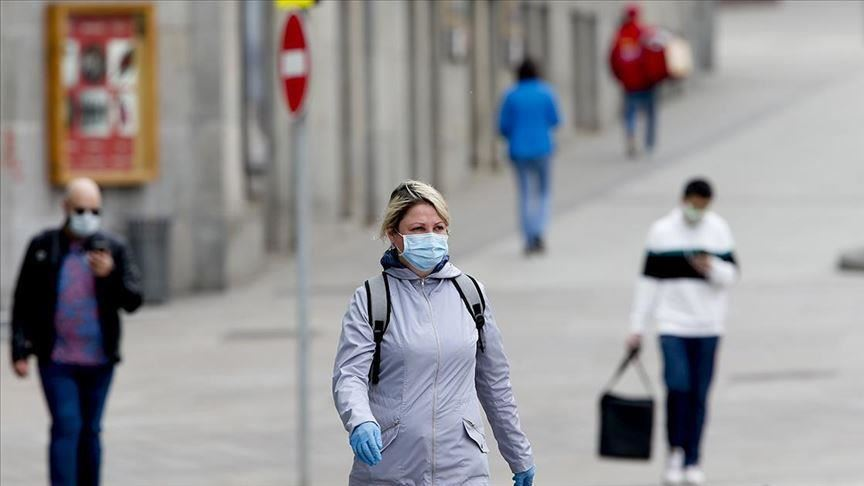Person: (285, 162, 543, 486), (594, 161, 755, 476), (9, 173, 151, 486)
